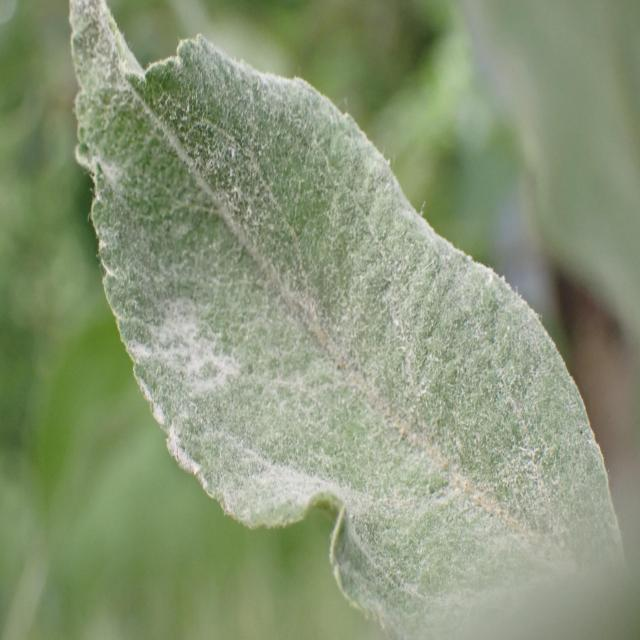Powdery_mildew: (67, 0, 630, 640)
